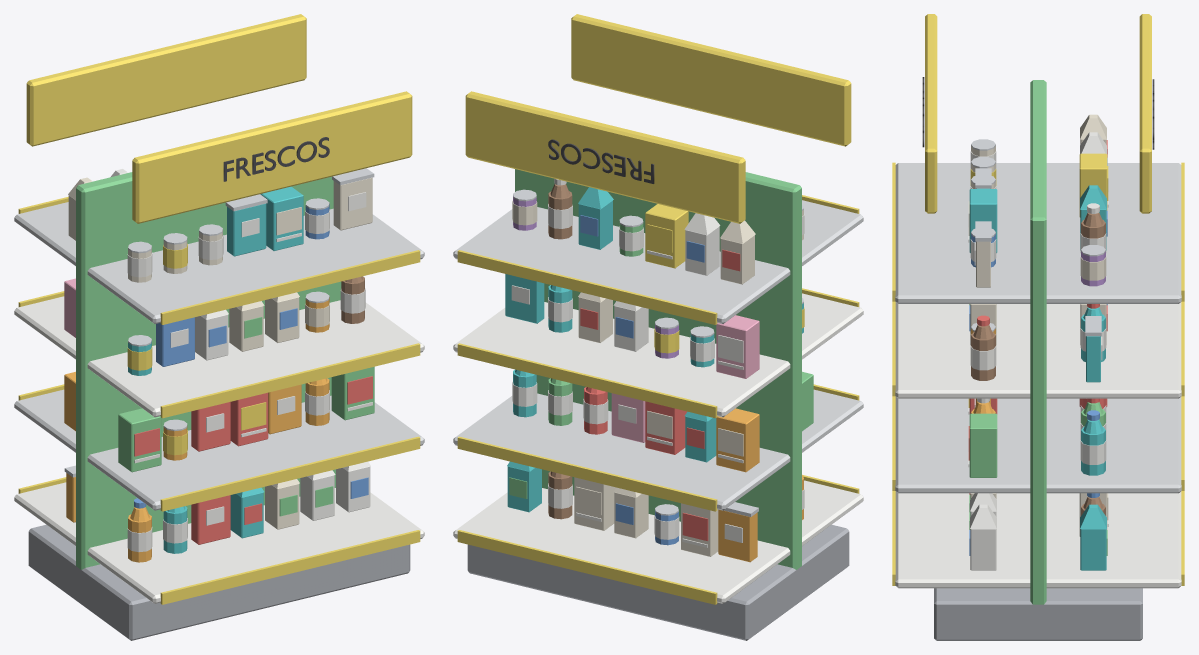
File: Gondola_Frescos.fbx
3 views of the same model, side by side, from view 1: azimuth 30°, elevation 25°; view 2: azimuth 150°, elevation 25°; view 3: azimuth 270°, elevation 25° (orthographic).
Visible parts, largest first — view 1: Gondola_Frescos | Columna central, Gondola_Frescos | Panel letrero, Gondola_Frescos | Panel letrero.001, Gondola_Frescos | Zocalo, Gondola_Frescos | Bandeja 4.001, Gondola_Frescos | Bandeja 3.001, Gondola_Frescos | Bandeja 1.001, Gondola_Frescos | Bandeja 2.001, Gondola_Frescos | Cantina precio.006, Gondola_Frescos | Cantina precio.004, Gondola_Frescos | Cantina precio.005, Gondola_Frescos | Cantina precio.007 (+31 smaller); view 2: Gondola_Frescos | Columna central, Gondola_Frescos | Panel letrero.001, Gondola_Frescos | Panel letrero, Gondola_Frescos | Zocalo, Gondola_Frescos | Bandeja 3, Gondola_Frescos | Bandeja 4, Gondola_Frescos | Bandeja 2, Gondola_Frescos | Bandeja 1, Gondola_Frescos | Cantina precio.002, Gondola_Frescos | Cantina precio, Gondola_Frescos | Cantina precio.001, Gondola_Frescos | Cantina precio.003 (+33 smaller); view 3: Gondola_Frescos | Bandeja 4, Gondola_Frescos | Bandeja 3, Gondola_Frescos | Bandeja 2, Gondola_Frescos | Bandeja 1, Gondola_Frescos | Bandeja 4.001, Gondola_Frescos | Zocalo, Gondola_Frescos | Bandeja 3.001, Gondola_Frescos | Bandeja 2.001, Gondola_Frescos | Bandeja 1.001, Gondola_Frescos | Columna central, Gondola_Frescos | Panel letrero, Gondola_Frescos | Panel letrero.001 (+20 smaller).
Part boxes in pixels (x1=…): Gondola_Frescos | Columna central: x1=76, y1=172, x2=341, y2=569; Gondola_Frescos | Panel letrero: x1=26, y1=14, x2=306, y2=146; Gondola_Frescos | Panel letrero.001: x1=132, y1=91, x2=412, y2=223; Gondola_Frescos | Zocalo: x1=28, y1=524, x2=410, y2=640; Gondola_Frescos | Bandeja 4.001: x1=68, y1=214, x2=424, y2=323; Gondola_Frescos | Bandeja 3.001: x1=68, y1=304, x2=424, y2=417; Gondola_Frescos | Bandeja 1.001: x1=68, y1=492, x2=424, y2=603; Gondola_Frescos | Bandeja 2.001: x1=68, y1=402, x2=424, y2=510; Gondola_Frescos | Cantina precio.006: x1=160, y1=343, x2=420, y2=418; Gondola_Frescos | Cantina precio.004: x1=160, y1=530, x2=420, y2=604; Gondola_Frescos | Cantina precio.005: x1=160, y1=436, x2=420, y2=511; Gondola_Frescos | Cantina precio.007: x1=160, y1=250, x2=420, y2=324; Gondola_Frescos | Columna central: x1=515, y1=169, x2=801, y2=569; Gondola_Frescos | Panel letrero.001: x1=571, y1=14, x2=851, y2=146; Gondola_Frescos | Panel letrero: x1=465, y1=91, x2=745, y2=223; Gondola_Frescos | Zocalo: x1=467, y1=524, x2=849, y2=640; Gondola_Frescos | Bandeja 3: x1=453, y1=302, x2=809, y2=417; Gondola_Frescos | Bandeja 4: x1=453, y1=207, x2=809, y2=323; Gondola_Frescos | Bandeja 2: x1=453, y1=393, x2=809, y2=510; Gondola_Frescos | Bandeja 1: x1=453, y1=488, x2=809, y2=603; Gondola_Frescos | Cantina precio.002: x1=457, y1=343, x2=717, y2=418; Gondola_Frescos | Cantina precio: x1=457, y1=530, x2=717, y2=604; Gondola_Frescos | Cantina precio.001: x1=457, y1=436, x2=717, y2=511; Gondola_Frescos | Cantina precio.003: x1=457, y1=250, x2=717, y2=324; Gondola_Frescos | Bandeja 4: x1=1008, y1=163, x2=1181, y2=303; Gondola_Frescos | Bandeja 3: x1=1008, y1=302, x2=1181, y2=398; Gondola_Frescos | Bandeja 2: x1=1008, y1=397, x2=1181, y2=493; Gondola_Frescos | Bandeja 1: x1=1008, y1=491, x2=1181, y2=588; Gondola_Frescos | Bandeja 4.001: x1=895, y1=163, x2=1068, y2=303; Gondola_Frescos | Zocalo: x1=934, y1=588, x2=1142, y2=640; Gondola_Frescos | Bandeja 3.001: x1=895, y1=302, x2=1068, y2=398; Gondola_Frescos | Bandeja 2.001: x1=895, y1=397, x2=1068, y2=493; Gondola_Frescos | Bandeja 1.001: x1=895, y1=491, x2=1008, y2=588; Gondola_Frescos | Columna central: x1=1030, y1=80, x2=1046, y2=604; Gondola_Frescos | Panel letrero: x1=1139, y1=14, x2=1151, y2=213; Gondola_Frescos | Panel letrero.001: x1=925, y1=14, x2=937, y2=213.
Size of the model in its own units: 1.2 by 1.97 by 1.06.
